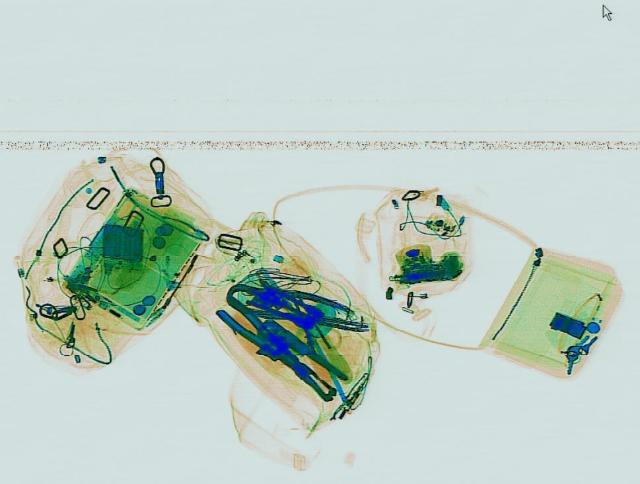Pliers: (206, 292, 322, 381)
